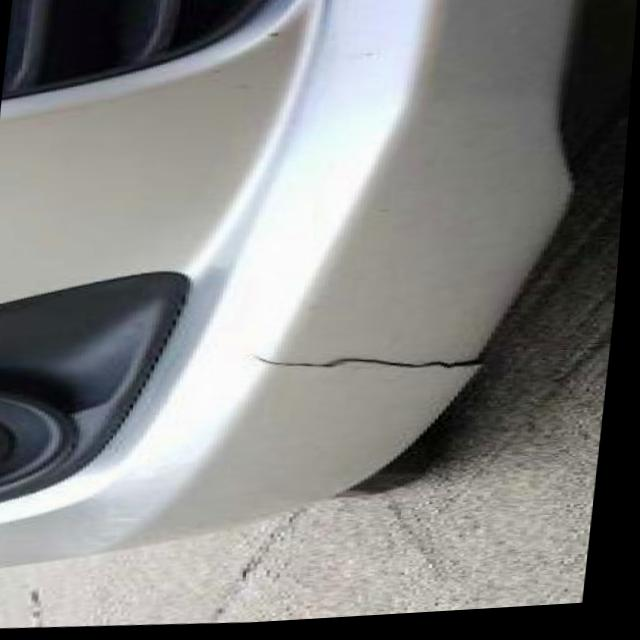Crack: (244, 350, 487, 373)
